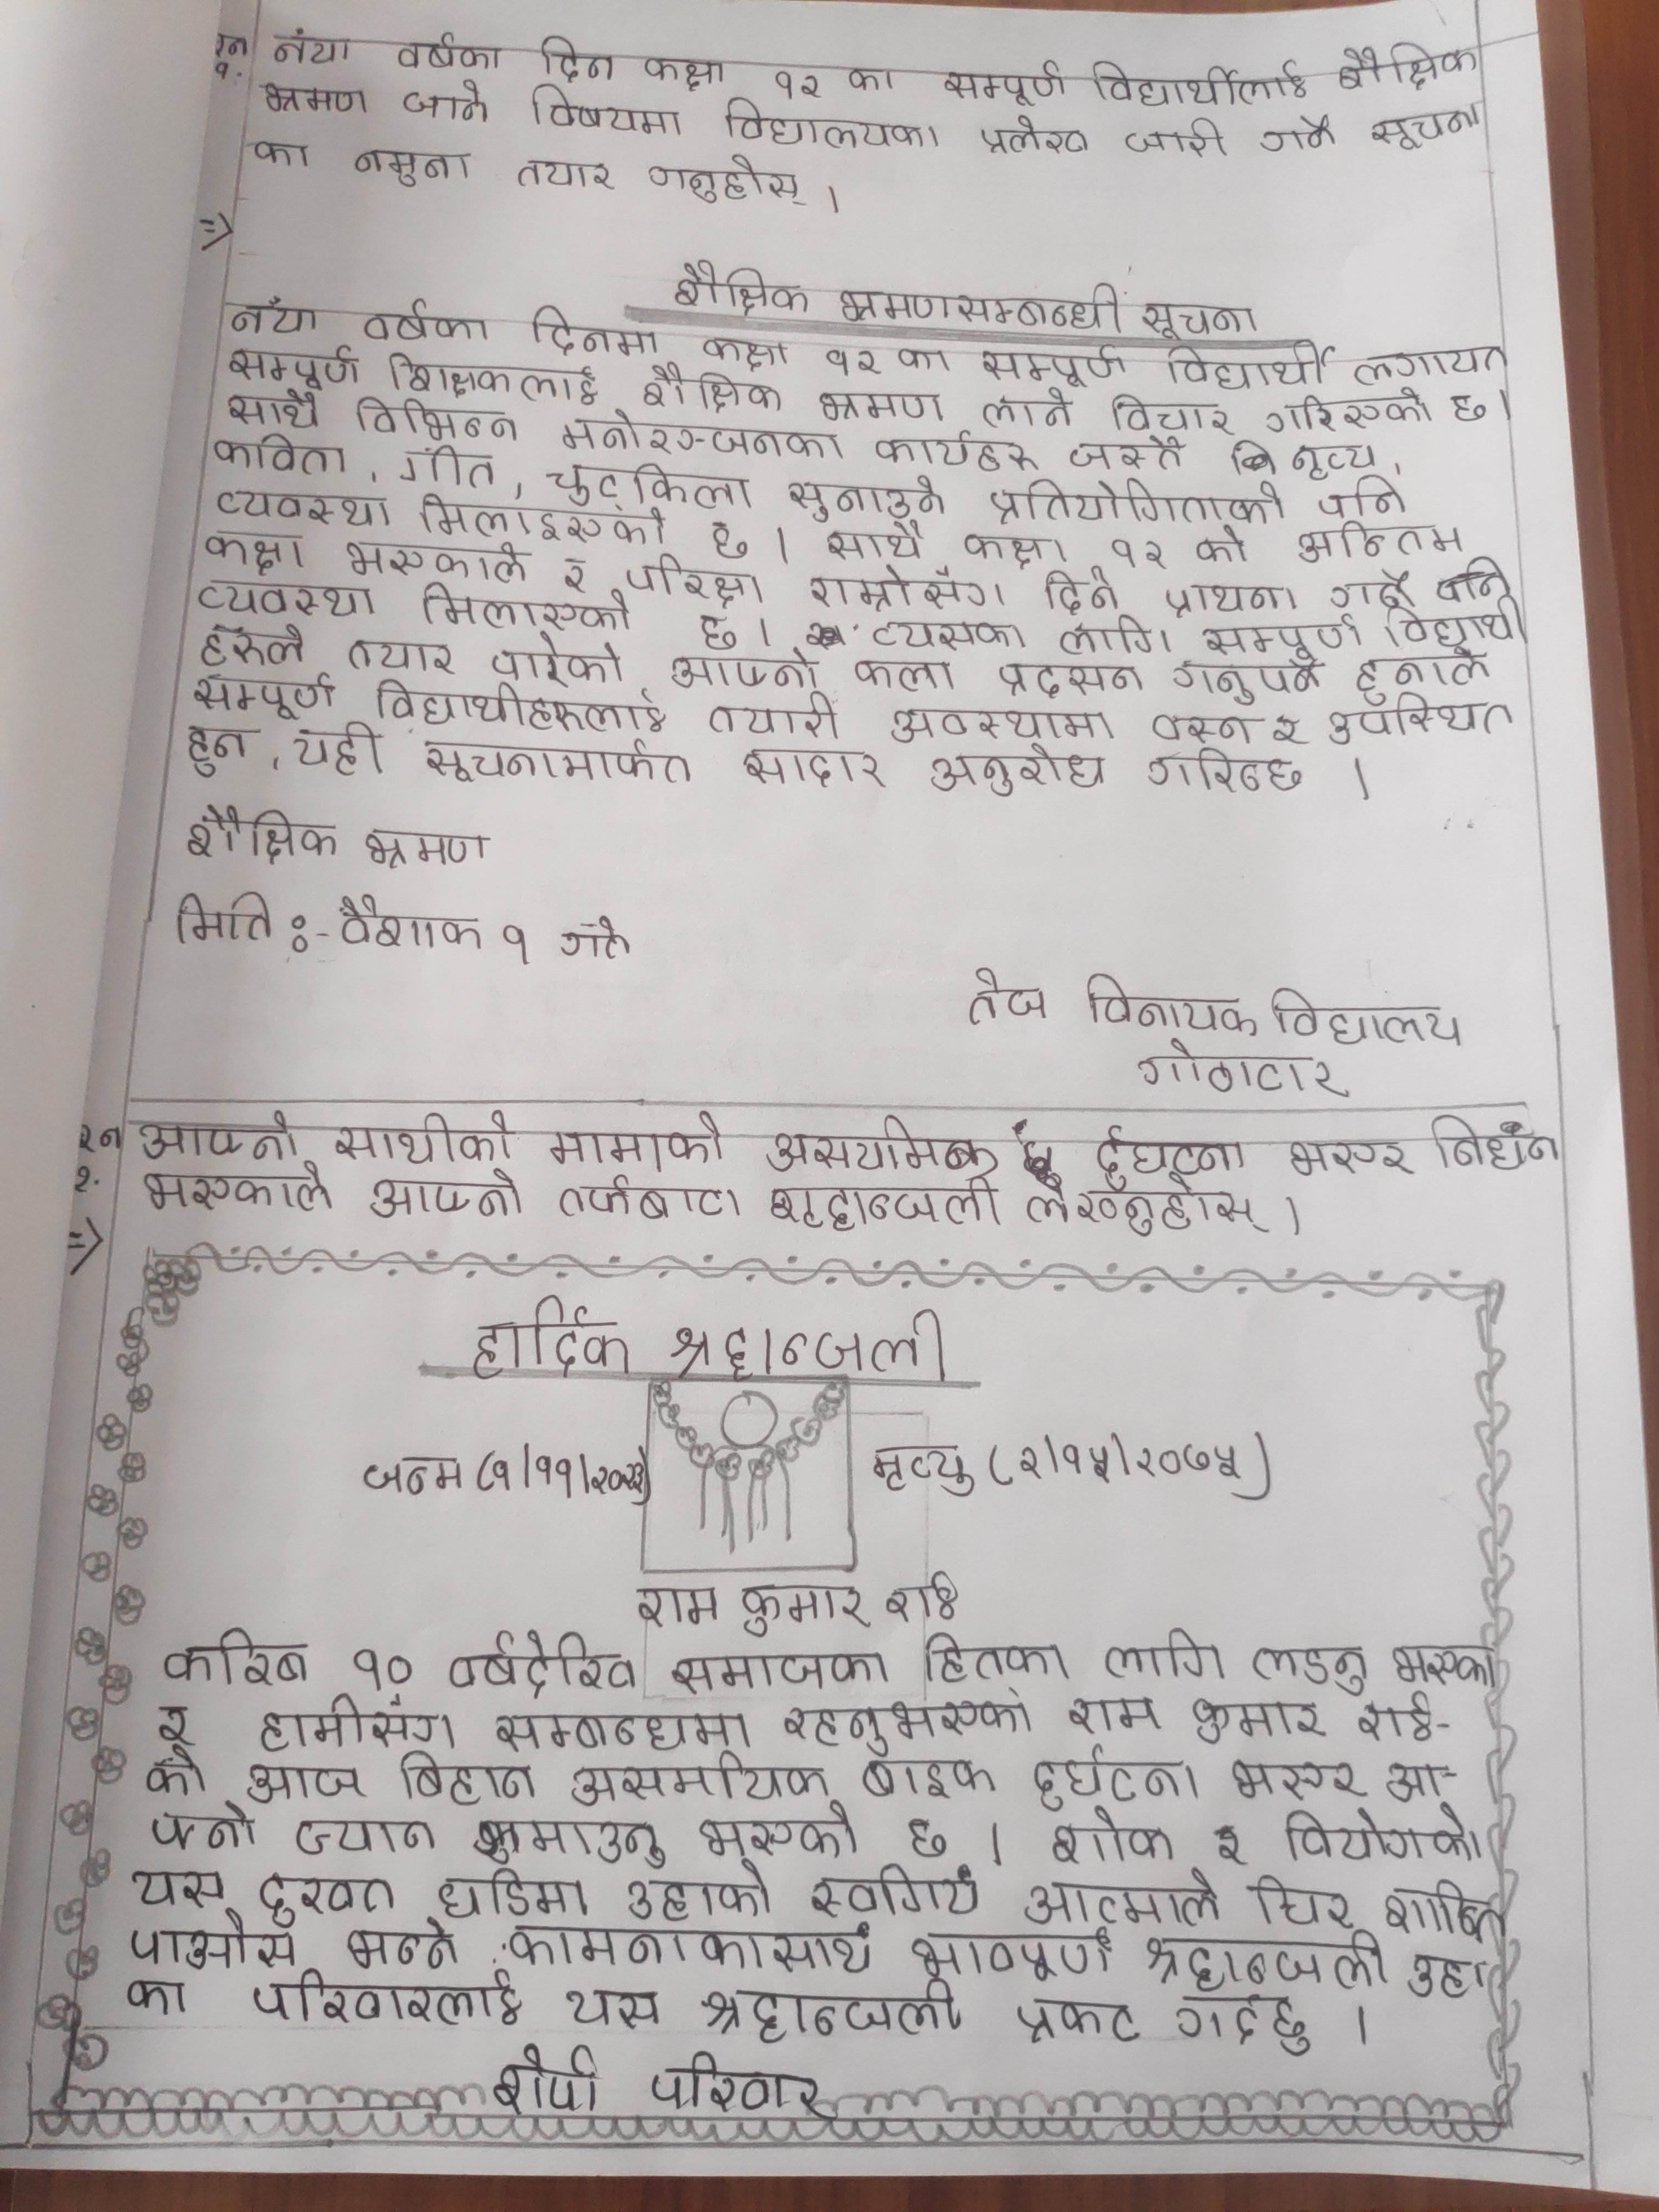text: (660, 1306, 955, 1385), (502, 1925, 878, 1977), (364, 676, 671, 737), (247, 1966, 525, 2029), (985, 470, 1291, 526), (418, 730, 697, 791), (694, 1982, 964, 2043), (781, 1693, 1035, 1756), (472, 1294, 638, 1386), (558, 411, 847, 463), (1140, 1937, 1398, 1994), (763, 1115, 997, 1177), (570, 1754, 831, 1808), (1019, 1181, 1272, 1237), (714, 94, 943, 153), (415, 491, 673, 543), (763, 1177, 1004, 1233), (911, 1921, 1115, 1986), (484, 1707, 762, 1754), (1131, 1040, 1351, 1099), (1267, 984, 1464, 1049), (1073, 974, 1267, 1038), (448, 1629, 641, 1693), (1009, 1435, 1244, 1487), (544, 456, 756, 514), (1277, 1806, 1488, 1864), (1025, 1874, 1223, 1935), (647, 2055, 826, 2120), (418, 583, 643, 634), (542, 1109, 727, 1170), (256, 1696, 464, 1750), (1026, 1747, 1204, 1810), (376, 354, 601, 402), (1084, 57, 1312, 105), (667, 1648, 903, 1693), (805, 1867, 990, 1925), (885, 700, 1124, 744), (181, 803, 342, 867), (1169, 1989, 1314, 2060), (331, 1111, 516, 1167), (141, 1163, 342, 1214), (1324, 698, 1520, 749), (643, 155, 812, 212), (132, 1109, 301, 1167), (626, 1862, 777, 1925), (122, 1918, 298, 1972), (1091, 1123, 1246, 1184), (469, 1824, 669, 1871), (211, 481, 397, 531), (523, 82, 681, 141), (927, 749, 1112, 799), (805, 570, 1009, 615), (953, 280, 1124, 334), (336, 538, 532, 585), (1169, 650, 1333, 705), (329, 897, 488, 954), (784, 470, 951, 524), (666, 258, 817, 317), (695, 1803, 856, 1858), (552, 1172, 742, 1219), (1335, 33, 1481, 94), (1164, 340, 1333, 392), (434, 1871, 596, 1925), (1197, 617, 1363, 669), (366, 1165, 525, 1219), (254, 1869, 397, 1928), (164, 1630, 310, 1688), (922, 1632, 1072, 1688), (350, 395, 521, 444), (1049, 1808, 1178, 1872), (871, 425, 1040, 474), (1432, 1113, 1563, 1176), (490, 2043, 606, 2113), (1134, 751, 1314, 796), (1384, 1881, 1506, 1947), (638, 359, 782, 415), (861, 611, 1032, 658), (193, 578, 385, 620), (1351, 338, 1509, 388), (735, 1578, 868, 1637), (620, 550, 770, 603), (660, 644, 819, 693), (396, 1750, 538, 1804), (1220, 1754, 1366, 1806), (974, 338, 1134, 385), (488, 1444, 648, 1491), (486, 634, 626, 688), (1103, 1629, 1234, 1686), (291, 1806, 439, 1857), (1349, 650, 1495, 700), (1297, 523, 1473, 564), (1248, 1639, 1371, 1698), (192, 672, 342, 721), (1190, 1693, 1335, 1743), (1260, 392, 1432, 434), (1014, 1993, 1143, 2048), (849, 1757, 1000, 1804), (833, 282, 957, 338), (211, 432, 352, 481), (1157, 575, 1300, 622), (171, 887, 281, 948), (941, 57, 1068, 110), (221, 345, 362, 392), (526, 307, 657, 357), (957, 963, 1049, 1035), (1380, 604, 1530, 648), (986, 660, 1147, 700), (735, 749, 894, 789), (1105, 390, 1239, 437), (354, 827, 498, 871), (1284, 1136, 1413, 1184), (1249, 1876, 1354, 1935), (1134, 296, 1260, 345), (195, 624, 321, 672), (1391, 1637, 1500, 1693), (361, 303, 495, 348), (239, 1763, 369, 1808), (704, 698, 845, 740), (870, 1442, 974, 1498), (148, 1808, 263, 1858), (350, 141, 472, 188), (1364, 101, 1481, 150), (340, 1930, 460, 1977), (559, 1984, 664, 2036), (974, 113, 1094, 158), (282, 730, 389, 780), (361, 1449, 469, 1498), (1065, 1689, 1169, 1738), (1058, 435, 1190, 474), (840, 657, 960, 698), (122, 1862, 225, 1911), (629, 1578, 725, 1630), (394, 35, 507, 78), (397, 80, 495, 131), (810, 390, 945, 427), (202, 528, 305, 575), (260, 78, 369, 122), (962, 526, 1072, 570), (1122, 118, 1236, 160), (397, 444, 502, 489), (817, 521, 924, 564), (342, 637, 460, 676), (1358, 1693, 1441, 1747), (1324, 566, 1420, 611), (1143, 711, 1256, 749), (1054, 620, 1173, 657), (532, 31, 617, 82), (1401, 1951, 1486, 2001), (225, 298, 328, 340), (1040, 568, 1122, 620), (979, 388, 1073, 434), (552, 920, 643, 967), (884, 1571, 965, 1622), (516, 152, 613, 193), (227, 388, 322, 430), (268, 23, 359, 66), (694, 331, 791, 371), (1284, 441, 1382, 481), (179, 728, 251, 780), (1432, 561, 1514, 606), (1316, 481, 1408, 521), (141, 1747, 206, 1803), (641, 56, 730, 92), (1255, 117, 1342, 153), (1380, 1757, 1448, 1803), (247, 132, 321, 174), (1185, 523, 1249, 570), (354, 1648, 418, 1695), (690, 604, 746, 651), (1107, 531, 1175, 570), (765, 64, 830, 105), (119, 1979, 186, 2013), (699, 521, 756, 561), (897, 1817, 948, 1862), (152, 1700, 202, 1743), (498, 918, 537, 974), (1265, 711, 1312, 751), (843, 64, 899, 98), (896, 348, 953, 380), (826, 343, 877, 378), (1439, 392, 1492, 425), (558, 550, 591, 596), (1213, 1822, 1248, 1862)
